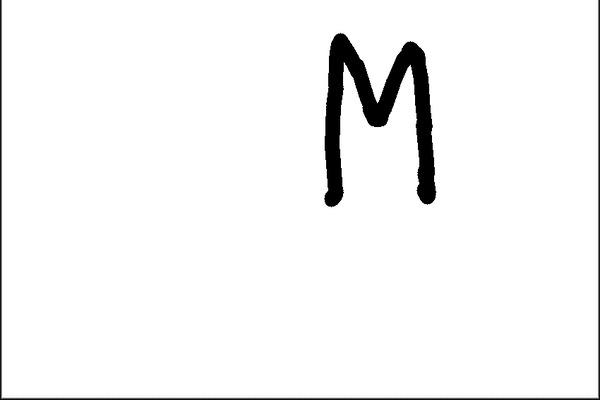M: (310, 28, 445, 210)
